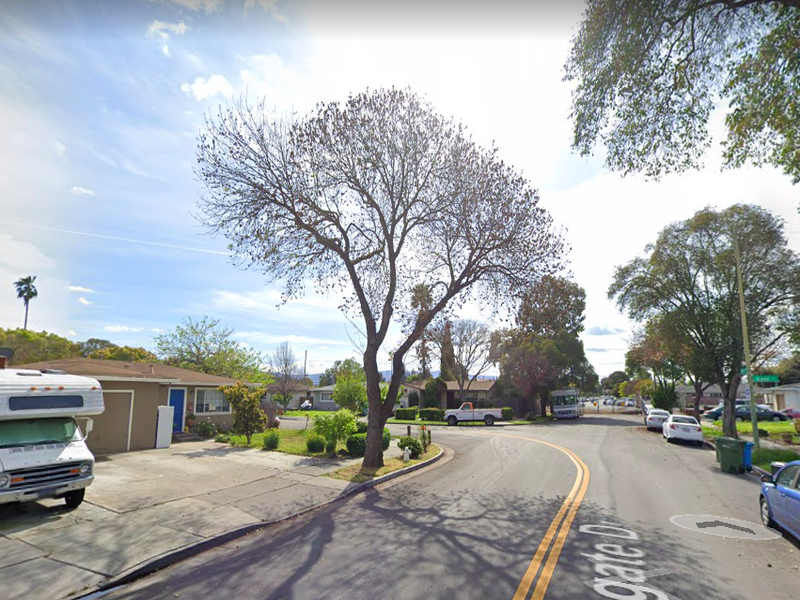tree: (188, 80, 574, 472)
